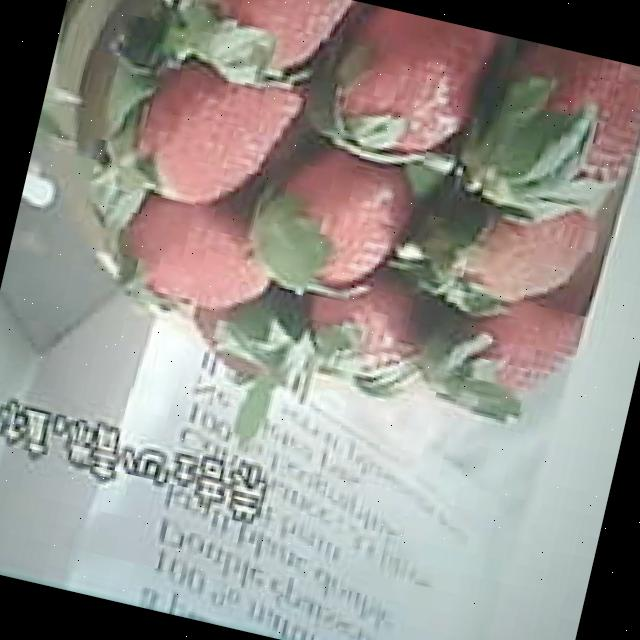strawberry: (320, 0, 497, 176), (126, 59, 302, 226), (254, 142, 415, 308), (172, 0, 350, 94)
